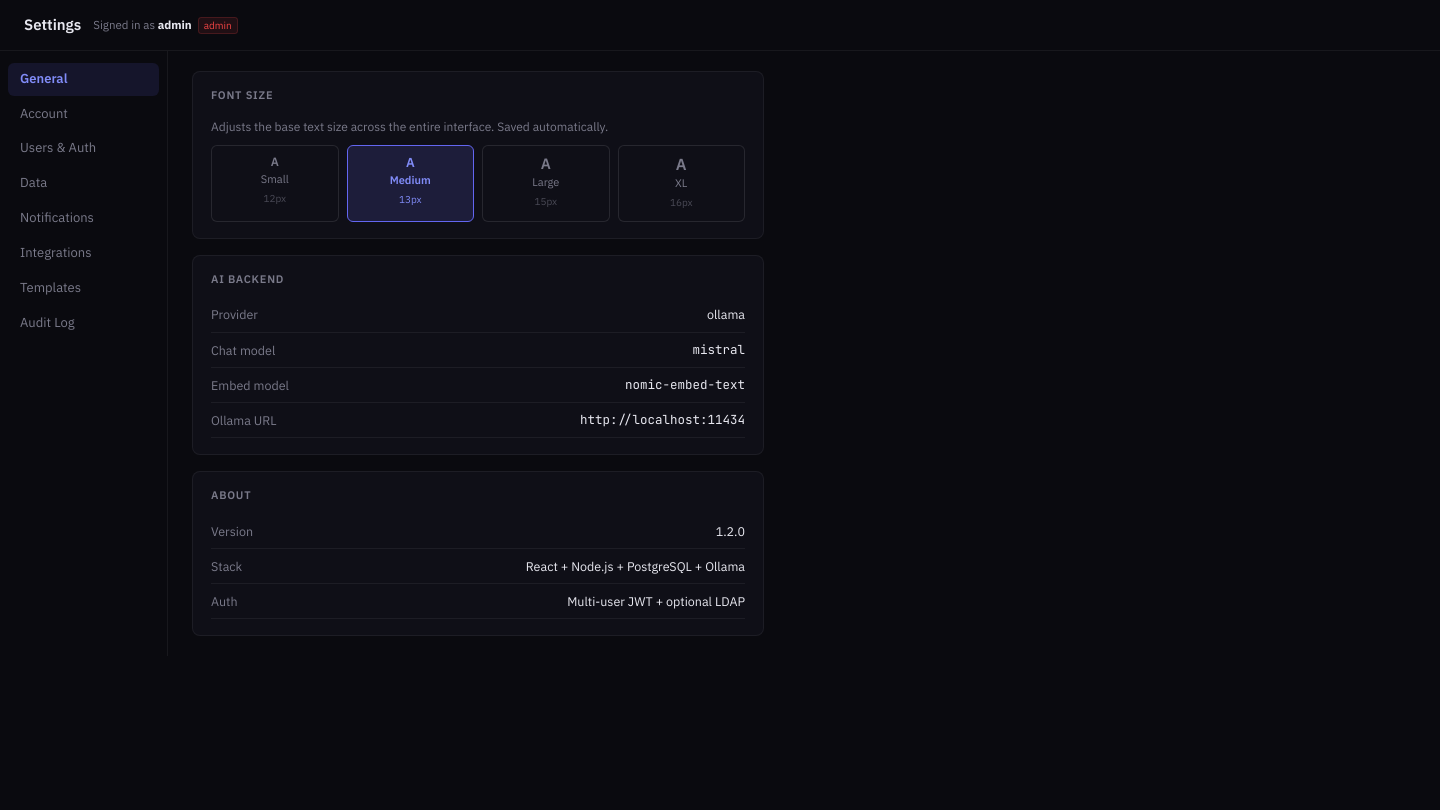
Test case: SettingsPage — Account tab › generates an API token
Check: the text "ollama" is shown, box x1=707 y1=306 x2=745 y2=324
Click the button "Account": [84, 114] box x1=8 y1=98 x2=159 y2=130
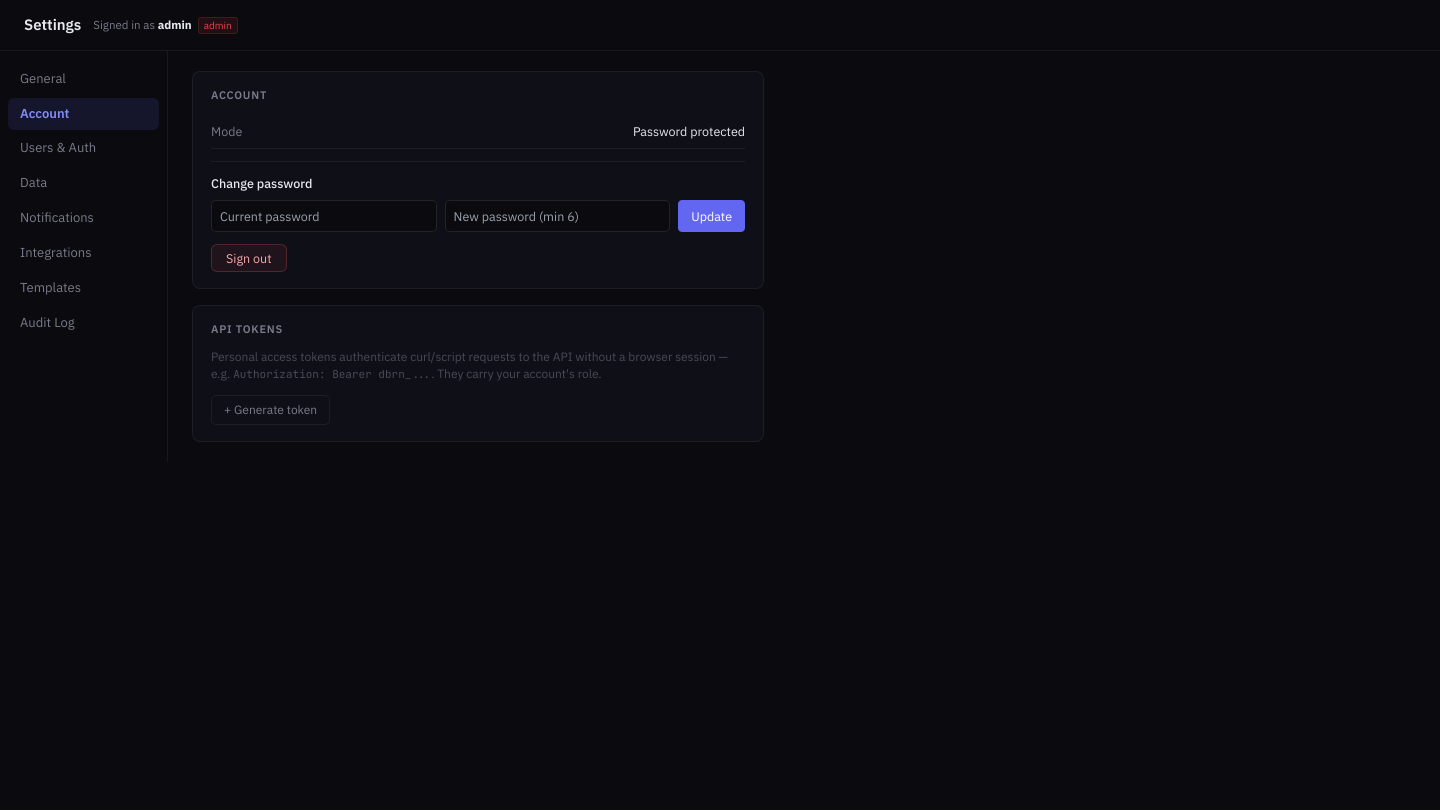
Click the button "+ Generate token": [271, 410] box x1=211 y1=395 x2=330 y2=425
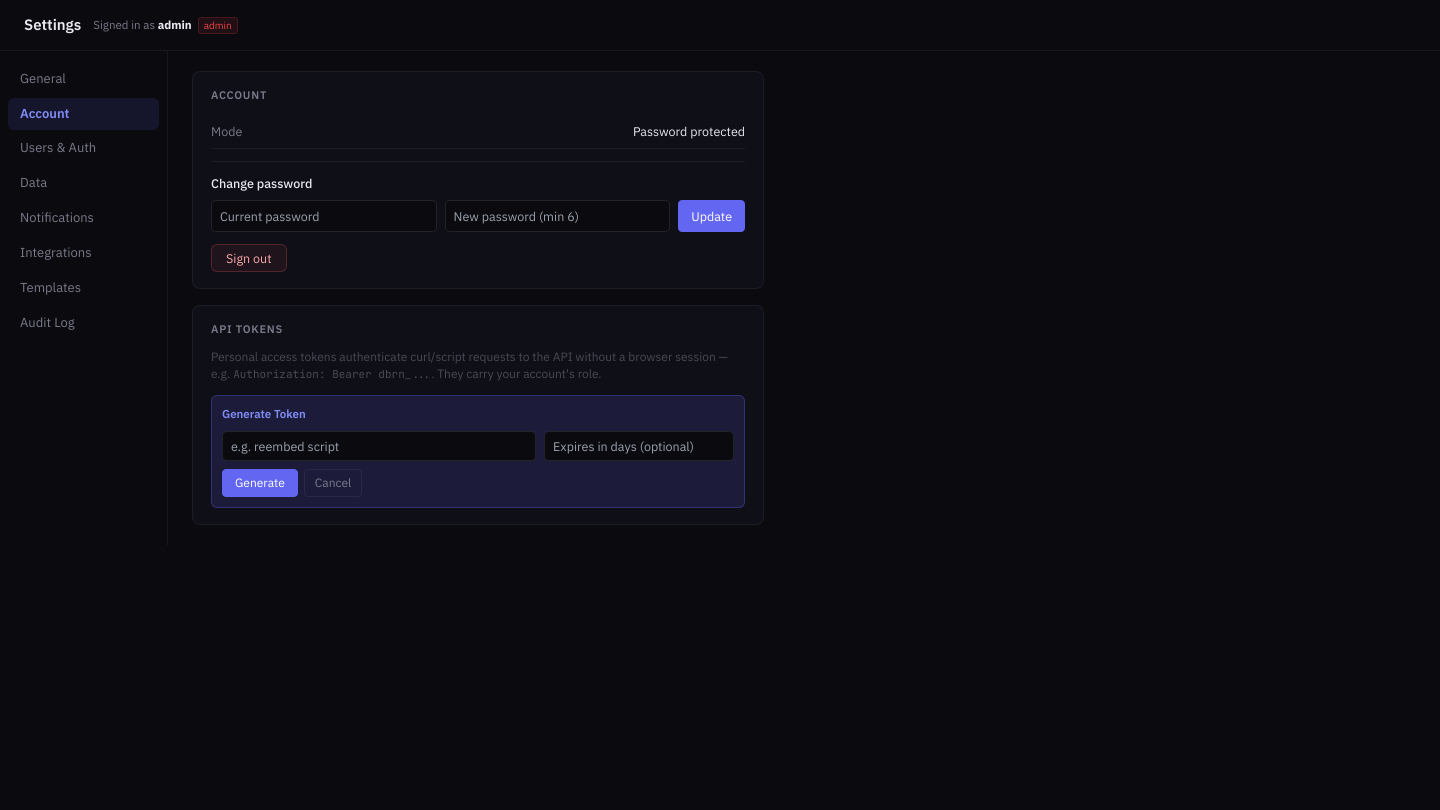
In the field with placeholder "e.g. reembed script": [379, 446] box x1=222 y1=431 x2=536 y2=461, type "ci"
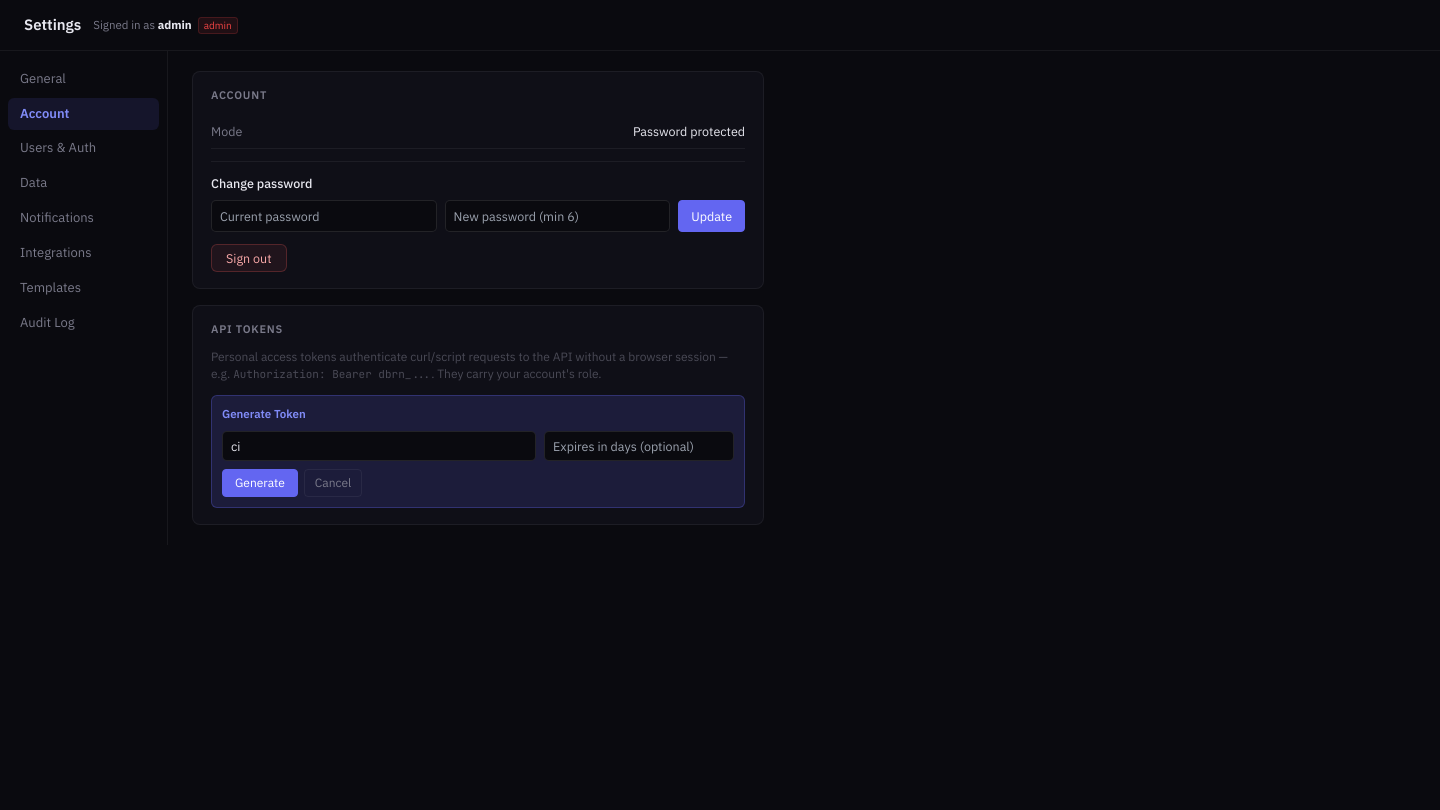
Click the button "Generate": [260, 483] box x1=222 y1=469 x2=298 y2=496
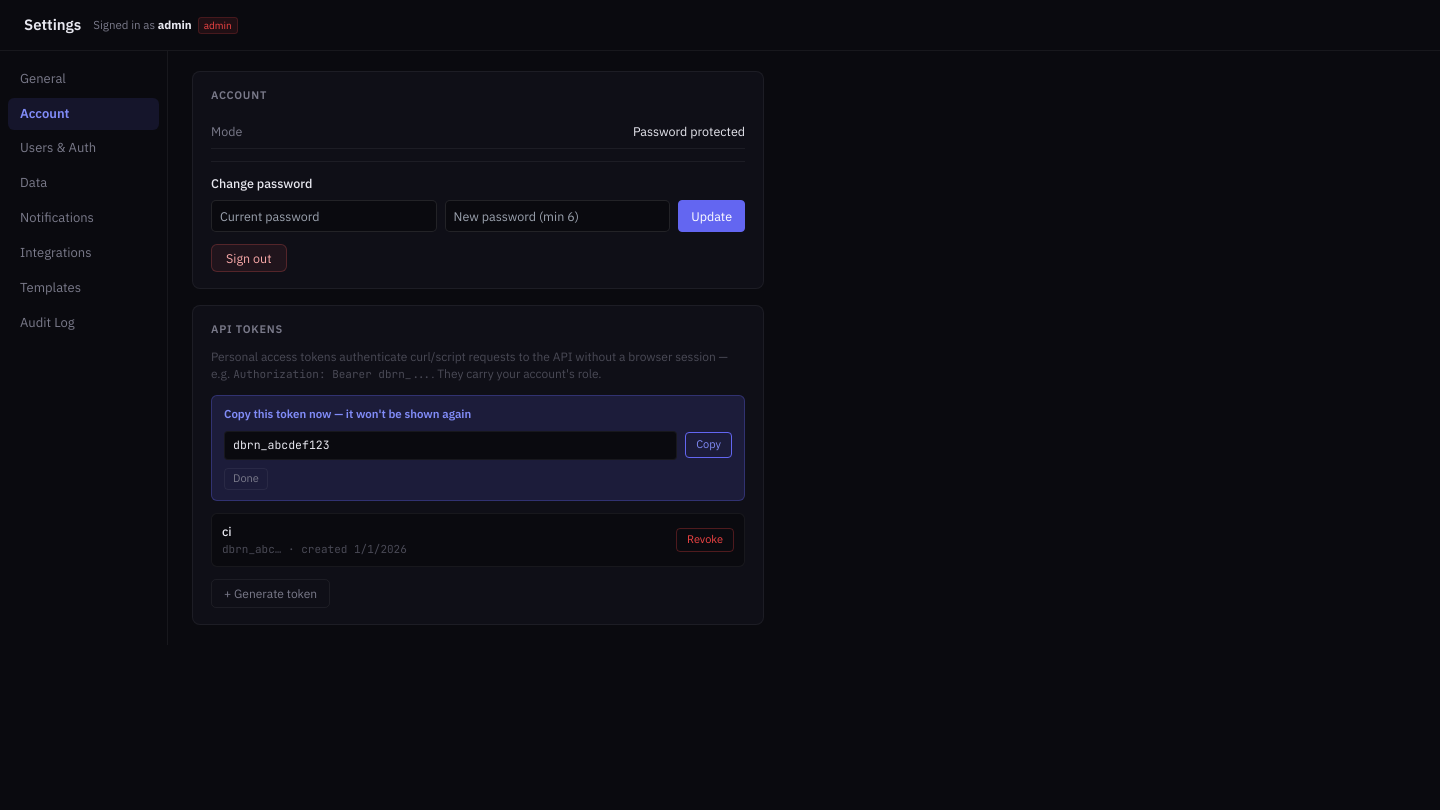
Check: the text "dbrn_abcdef123" is shown, box x1=224 y1=431 x2=677 y2=460
